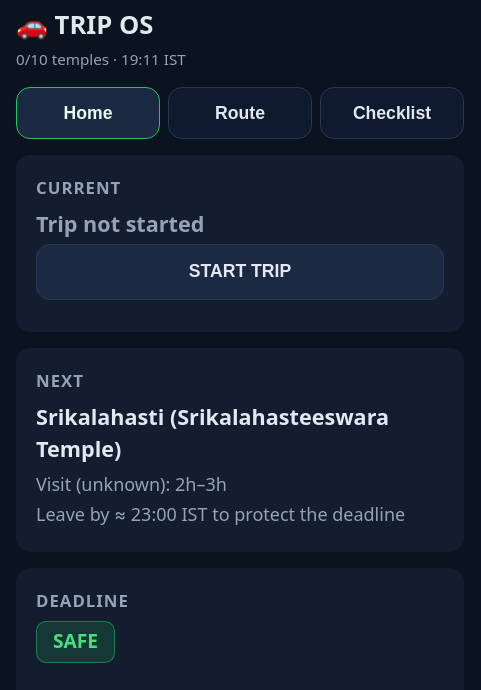
Test: live shell — home screen › hides START TRIP once the trip is running
The width and height of the screenshot is (481, 690).
Click the button "START TRIP".
click(240, 272)  # box [36,244,444,300]
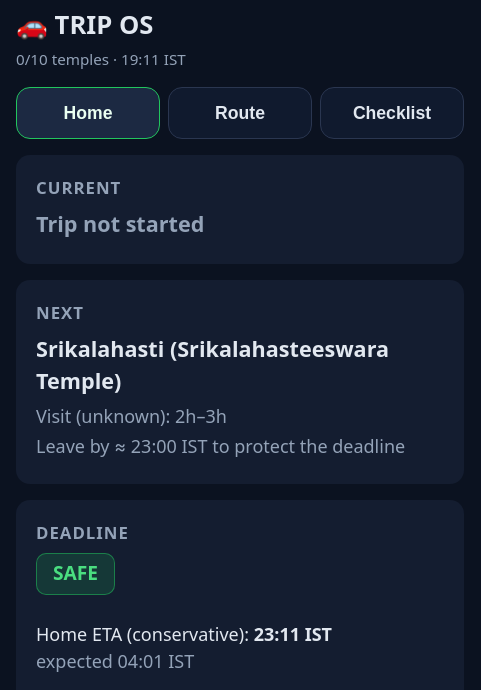
Expected: the button "START TRIP" is gone
